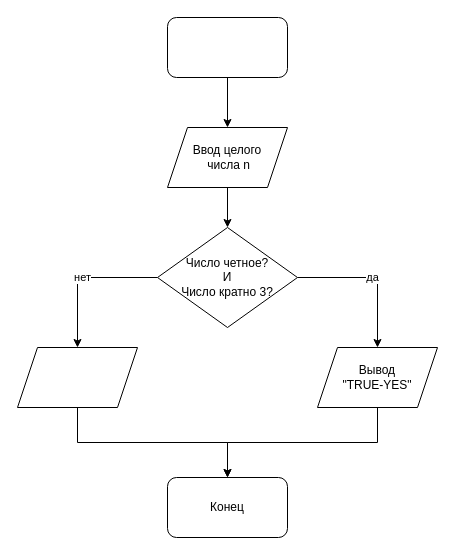
Image size: 455x555. Some labels were removed from this diagram. Here are the shapes that lost their labels. From the top down, the centre of each, then its label:
the point at 227,47: Начало
the point at 77,377: Вывод "FALSE-N"
